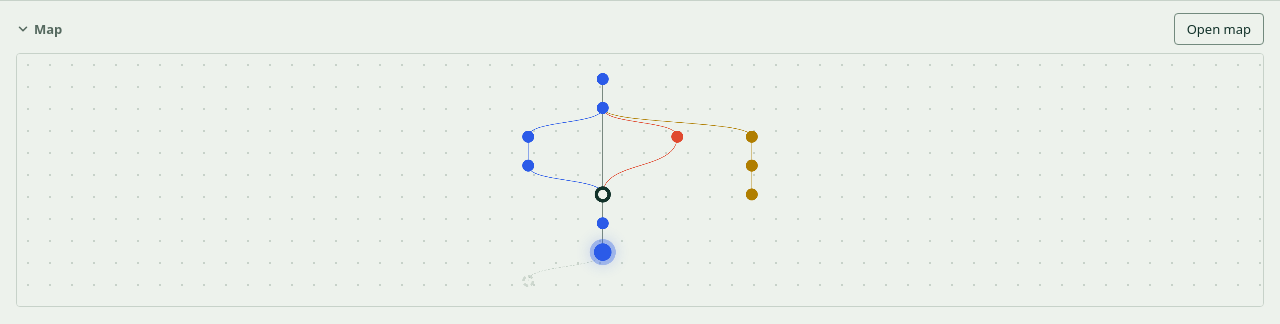
Scenario: MiniMap › can be folded away, keeping the Open map button
Click the button with aria-label "Hide the map preview" at [39, 29], box [12, 16, 66, 42]
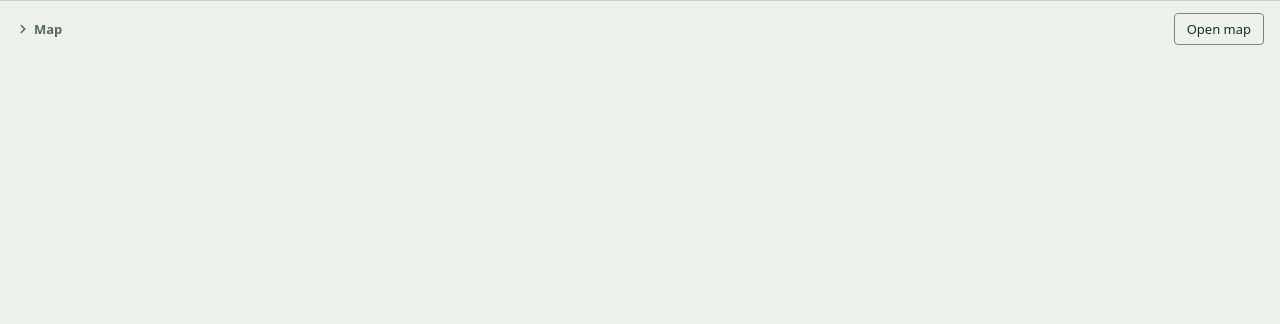
expect the button "Open map" is shown: met, box [1174, 13, 1264, 45]
expect no elements with class "map-dot" are shown: met
Click the button with aria-label "Show the map preview" at [39, 29], box [12, 16, 66, 42]
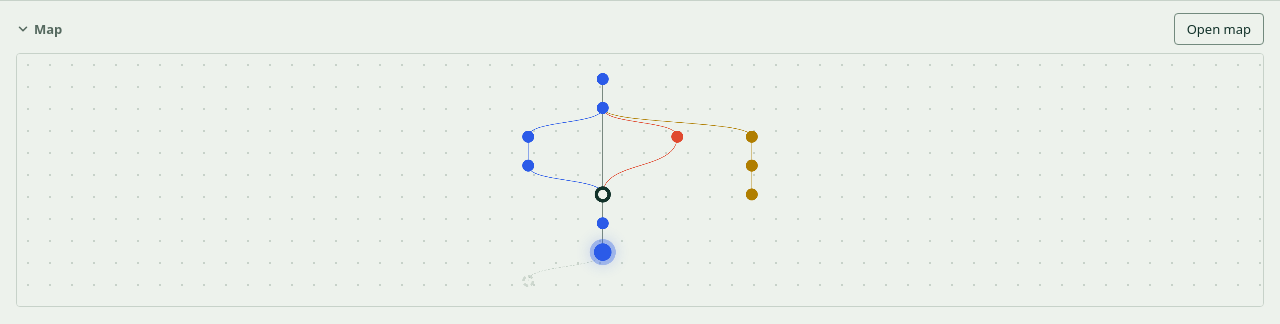
expect the 1st element with class "map-dot" is shown: met, box [597, 73, 609, 85]
